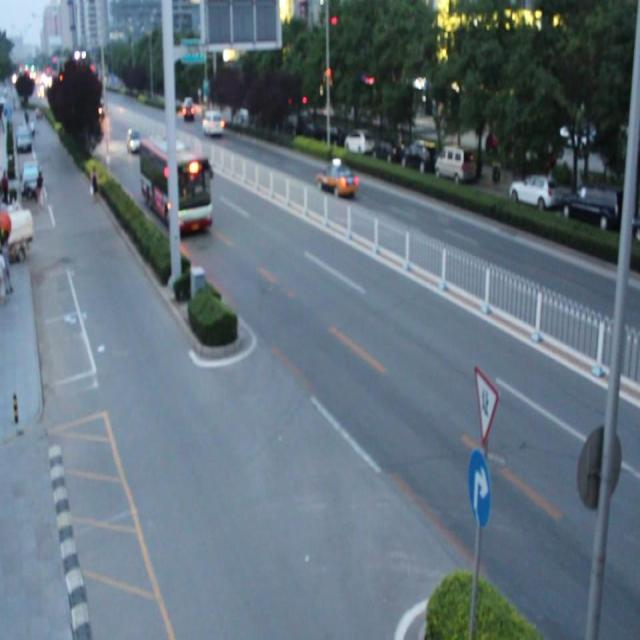car: (314, 161, 357, 197)
truck: (203, 111, 224, 138)
van: (139, 131, 211, 236)
